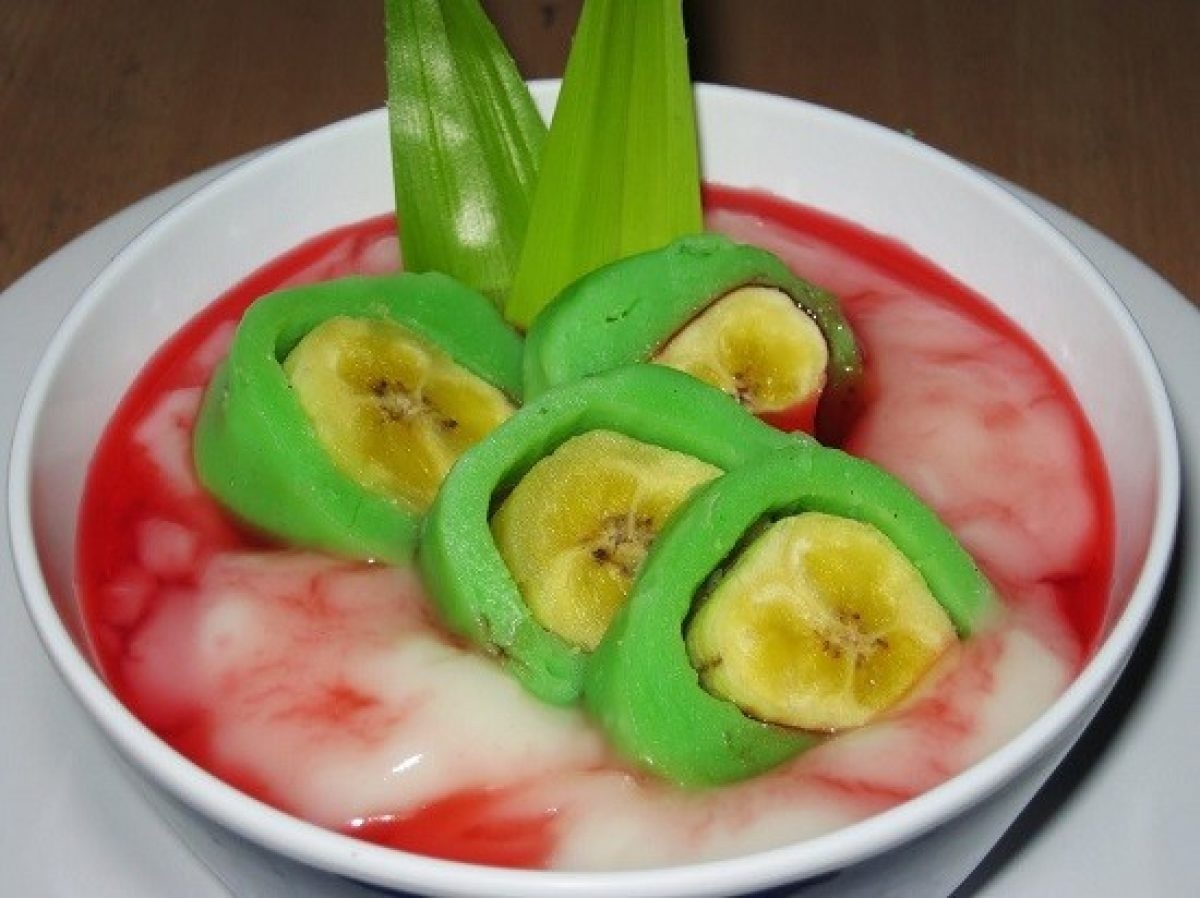pisang_ijo: (590, 428, 954, 751)
